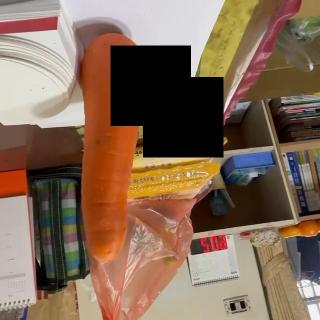carrot: (80, 32, 150, 262)
